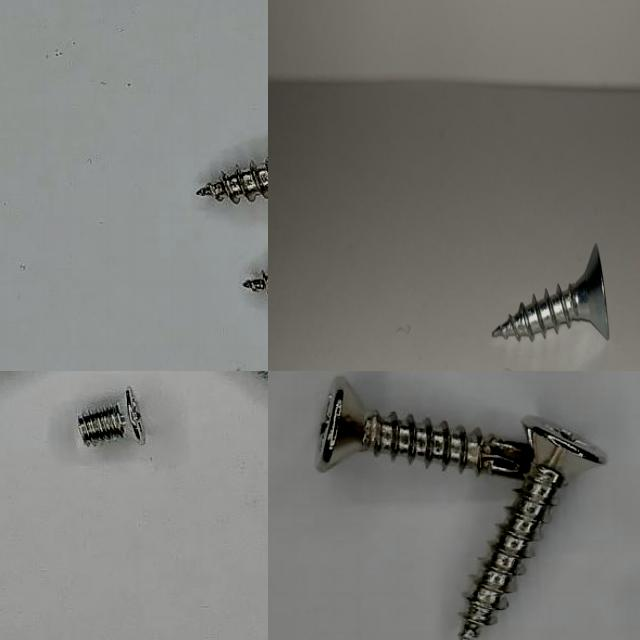Screw: (460, 417, 607, 640), (316, 378, 536, 478), (492, 243, 609, 341), (78, 388, 145, 447), (197, 159, 268, 203)
